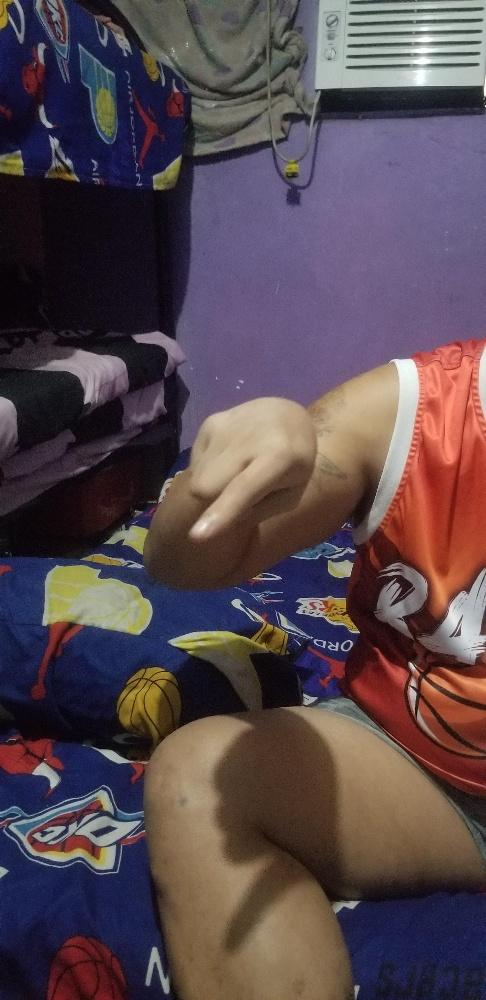z: (188, 396, 317, 543)
